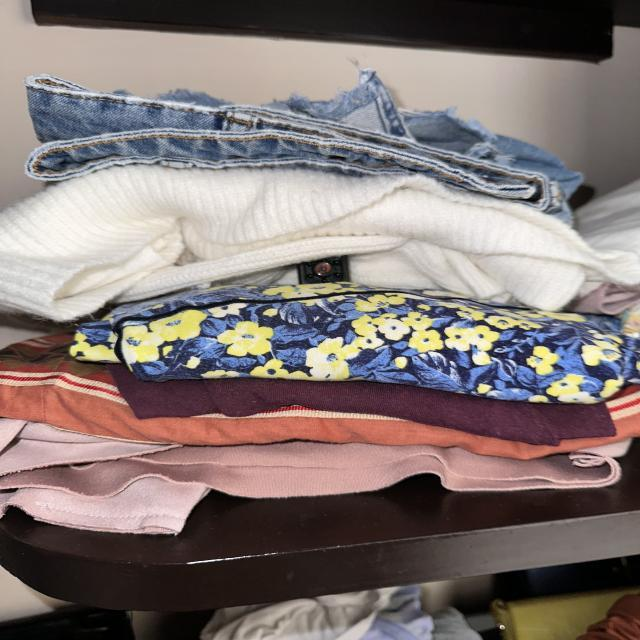hidden camera: (315, 263, 332, 275)
